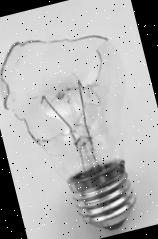lightbulb: (0, 17, 158, 239)
